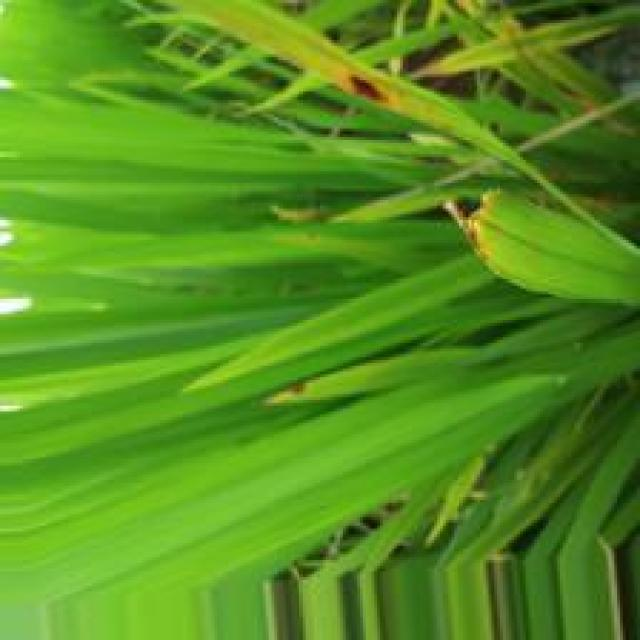Brown_Spot: (346, 66, 388, 110)
